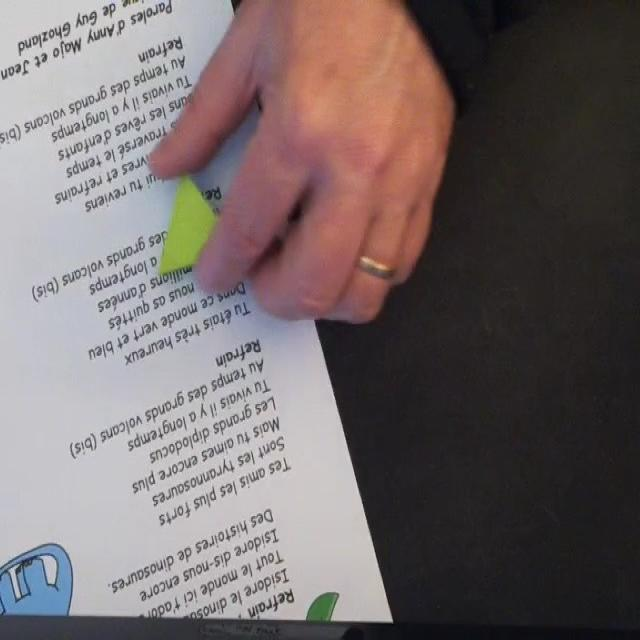triangle: (155, 172, 239, 276)
